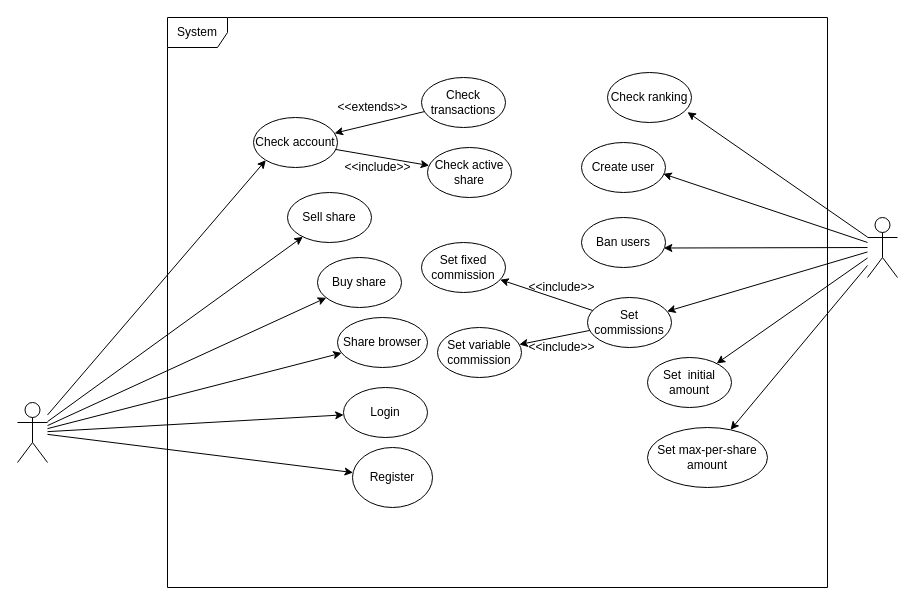
This 917x605 diagram has some shape labels left out. Each missing label, with the centre of its shape:
"Admin" belongs at point 882,247.
"User" belongs at point 32,432.
